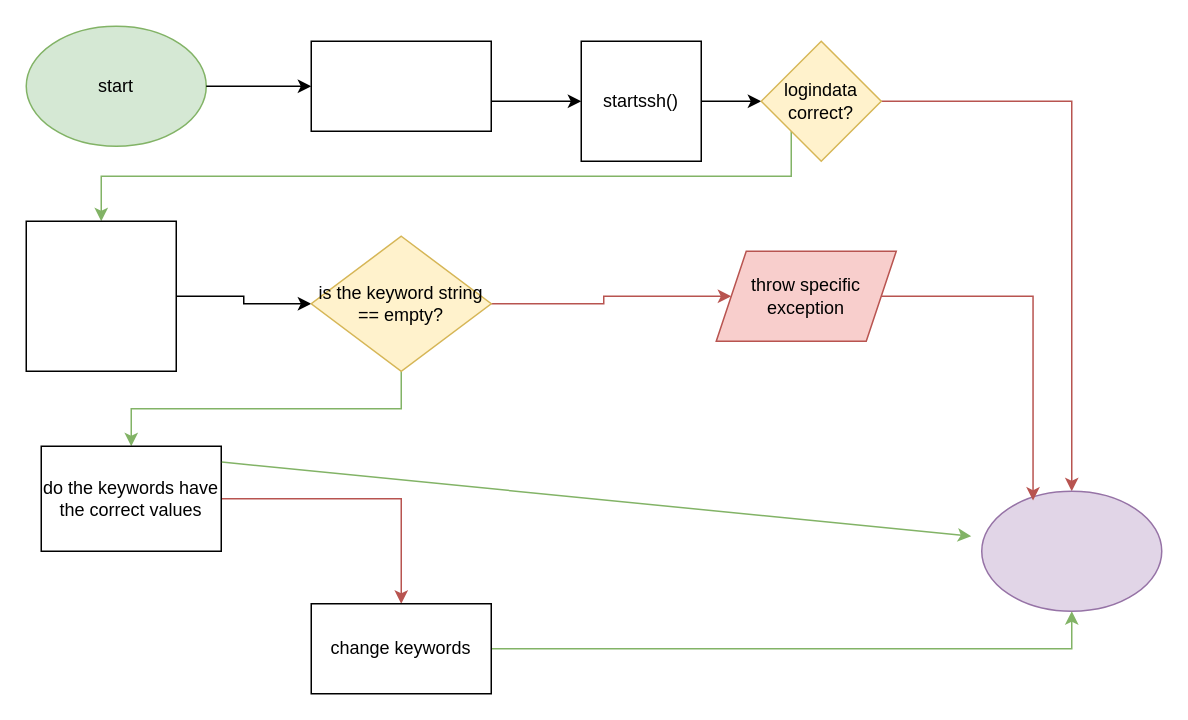
This 1188x720 diagram has some shape labels left out. Each missing label, with the centre of its shape:
define logindata: [400,85]
end: [1071,550]
get keywords fromphp.ini(): [100,295]
